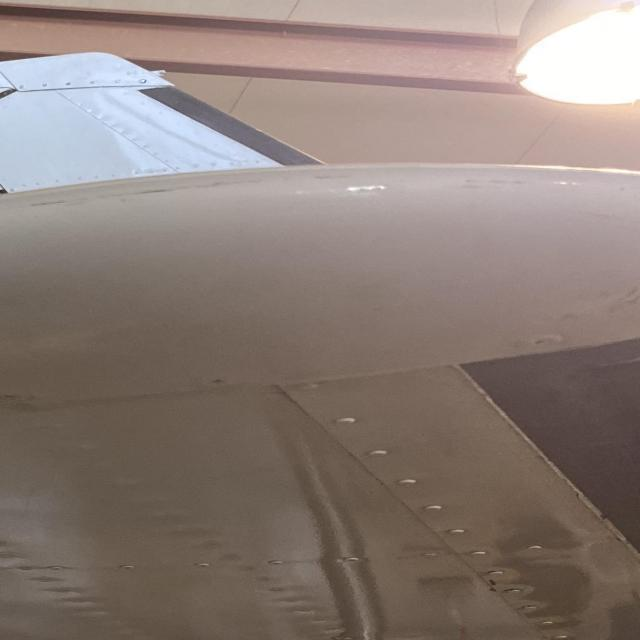Paint-off: (486, 579, 499, 593)
Scratch: (10, 171, 361, 216)
